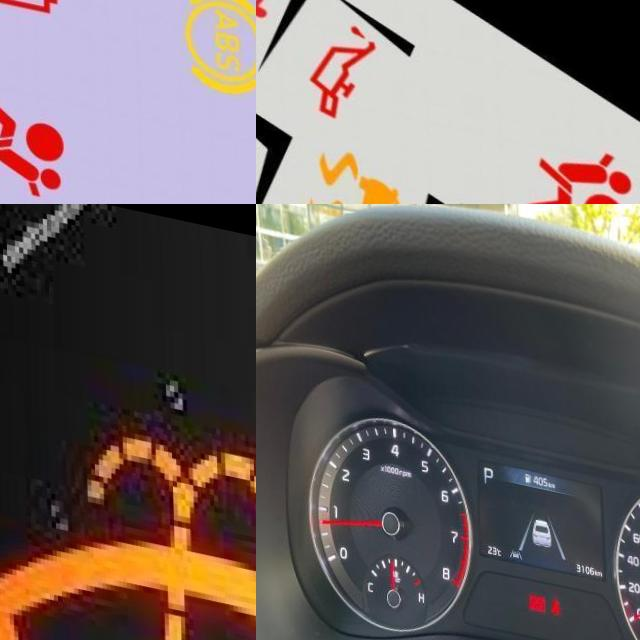Washer Fluid: (0, 387, 256, 640)
